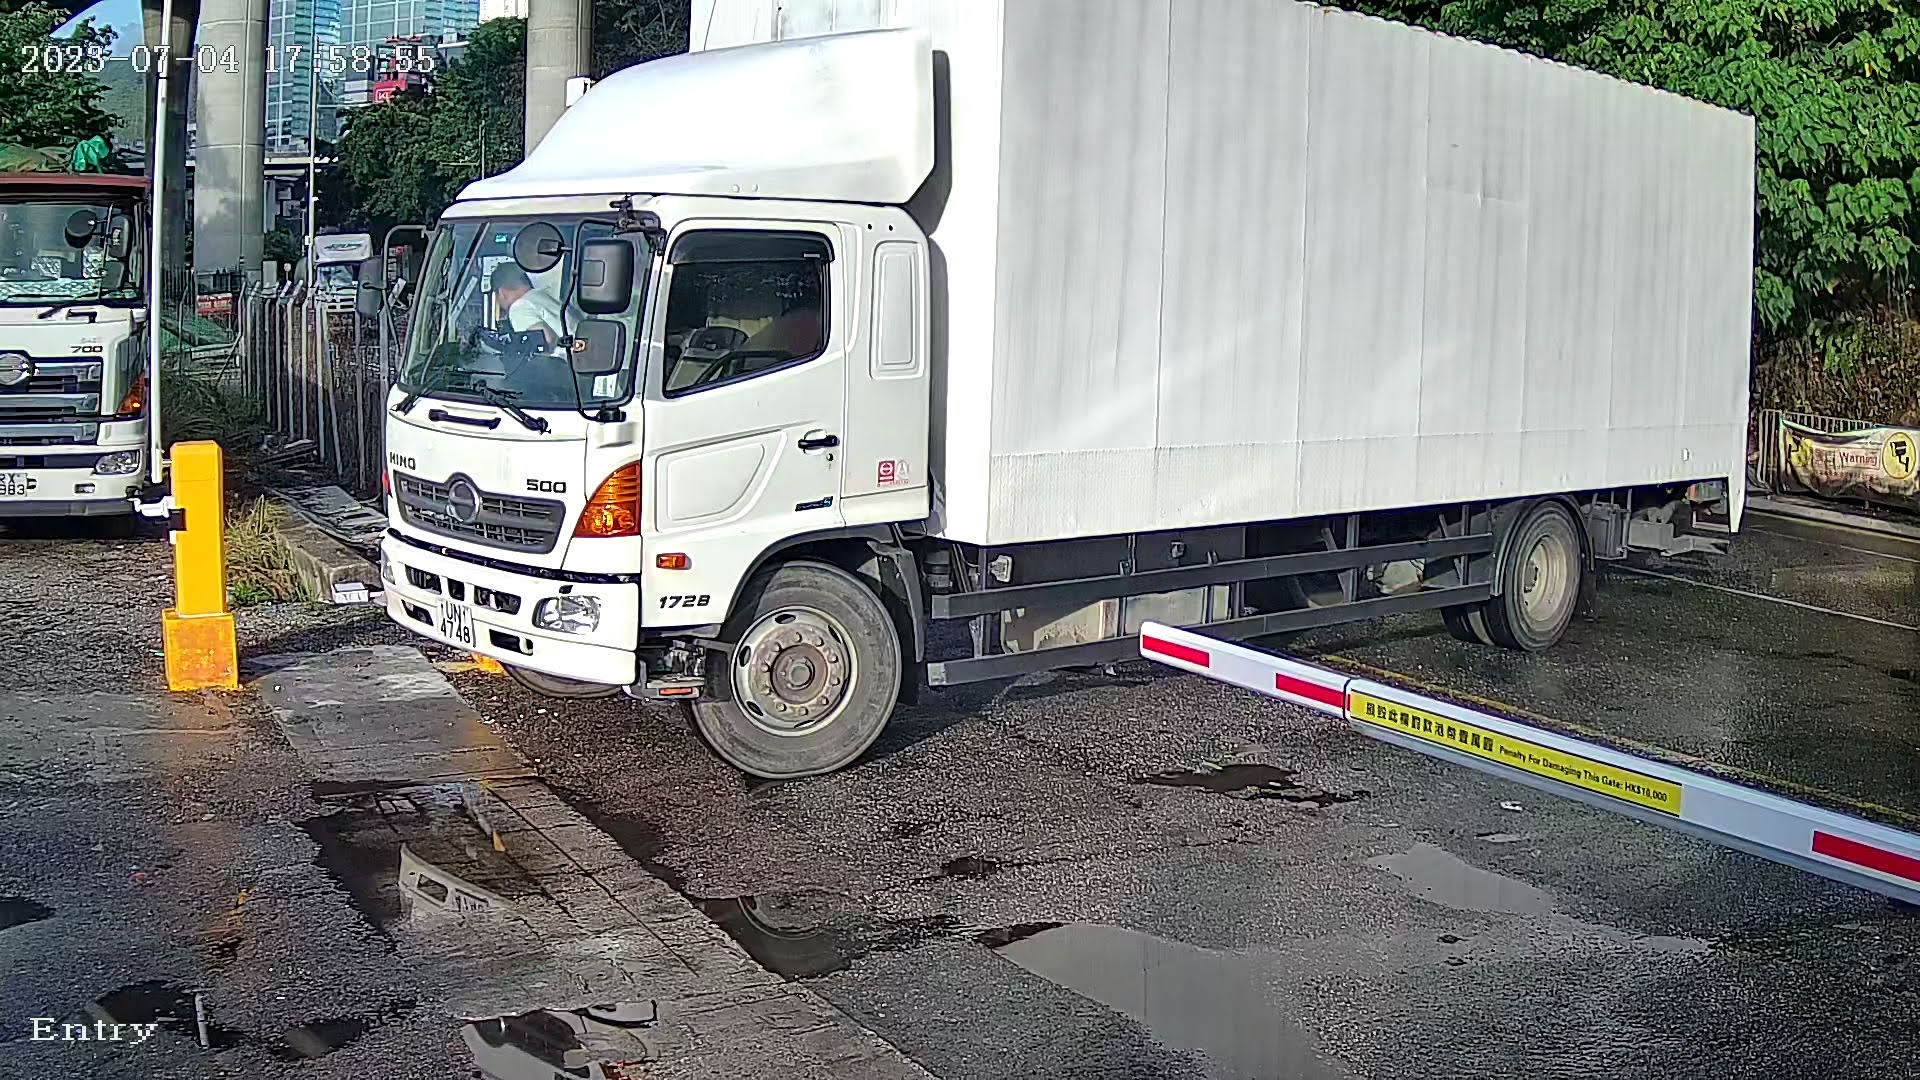truck_large: (347, 1, 1787, 799)
